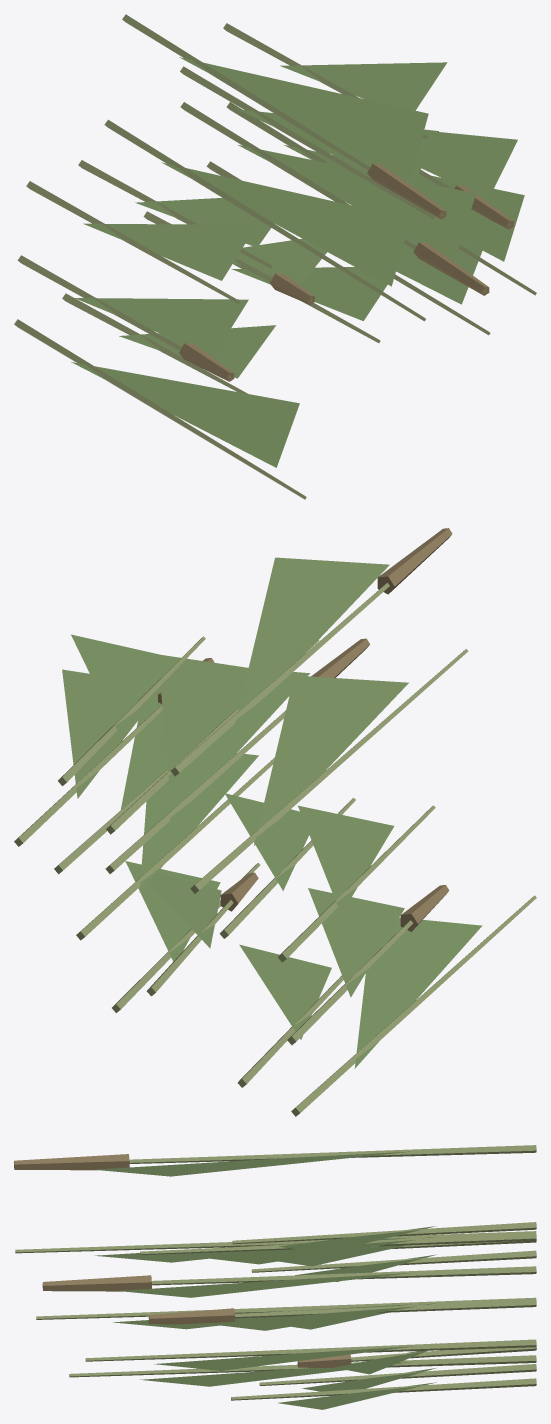
File: reed.glb
The picture shows the model from 3 angles, top to bottom: view 1: azimuth 30°, elevation 25°; view 2: azimuth 150°, elevation 25°; view 3: azimuth 270°, elevation 25°; orthographic projection. The views are drawn at different scales.
Parts seen in each view (by area): view 1: stem; view 2: stem; view 3: stem.
Part boxes in pixels (box(x1,y1,x2,y2)): stem: box(14, 14, 536, 499); stem: box(14, 528, 536, 1116); stem: box(14, 1145, 536, 1409).
Bounding box in the file's own units: 1.18 × 0.956 × 1.6.
